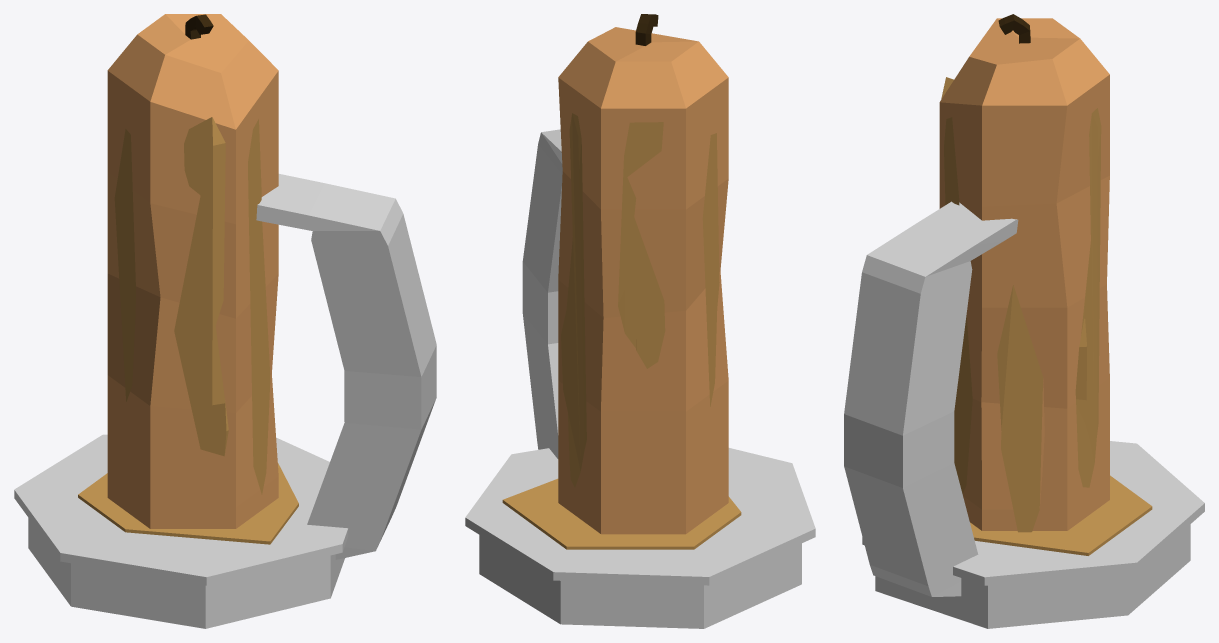
Rendered from ReexportedCandle.fbx.
The picture shows the model from 3 angles, left to right: view 1: azimuth 30°, elevation 25°; view 2: azimuth 150°, elevation 25°; view 3: azimuth 270°, elevation 25°; orthographic projection.
Visible parts, largest first — view 1: Candle Remade, Handle, Dish, Melted wax, Melted wax Base; view 2: Candle Remade, Dish, Melted wax, Handle, Melted wax Base, Wick; view 3: Candle Remade, Handle, Dish, Melted wax, Melted wax Base, Wick.
Part boxes in pixels (x1=…): Candle Remade: x1=107, y1=14, x2=278, y2=528; Handle: x1=256, y1=174, x2=436, y2=559; Dish: x1=14, y1=434, x2=348, y2=628; Melted wax: x1=114, y1=117, x2=270, y2=494; Melted wax Base: x1=78, y1=462, x2=298, y2=544; Candle Remade: x1=558, y1=27, x2=728, y2=534; Dish: x1=465, y1=448, x2=815, y2=628; Melted wax: x1=561, y1=113, x2=719, y2=487; Handle: x1=522, y1=129, x2=562, y2=458; Melted wax Base: x1=502, y1=478, x2=741, y2=549; Wick: x1=635, y1=14, x2=658, y2=45; Candle Remade: x1=939, y1=18, x2=1109, y2=530; Handle: x1=844, y1=201, x2=1018, y2=596; Dish: x1=862, y1=441, x2=1204, y2=628; Melted wax: x1=941, y1=77, x2=1101, y2=532; Melted wax Base: x1=970, y1=475, x2=1152, y2=555; Wick: x1=998, y1=14, x2=1030, y2=43.
Bounding box in the file's own units: 232 × 363 × 218.
